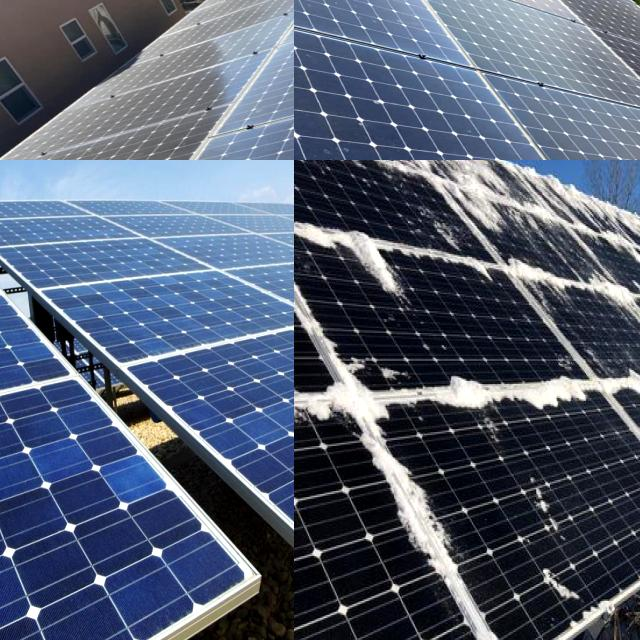crack: (37, 239, 294, 391), (0, 430, 168, 640), (0, 294, 130, 454), (205, 382, 294, 482)
dust: (155, 0, 294, 127), (507, 0, 640, 71), (109, 0, 294, 51), (358, 0, 473, 39)
panel: (354, 420, 513, 640), (369, 363, 607, 426), (294, 214, 445, 295), (294, 274, 359, 420), (505, 187, 640, 255), (503, 259, 640, 316), (351, 160, 496, 202), (451, 238, 494, 284), (294, 160, 340, 200), (611, 346, 640, 404)
